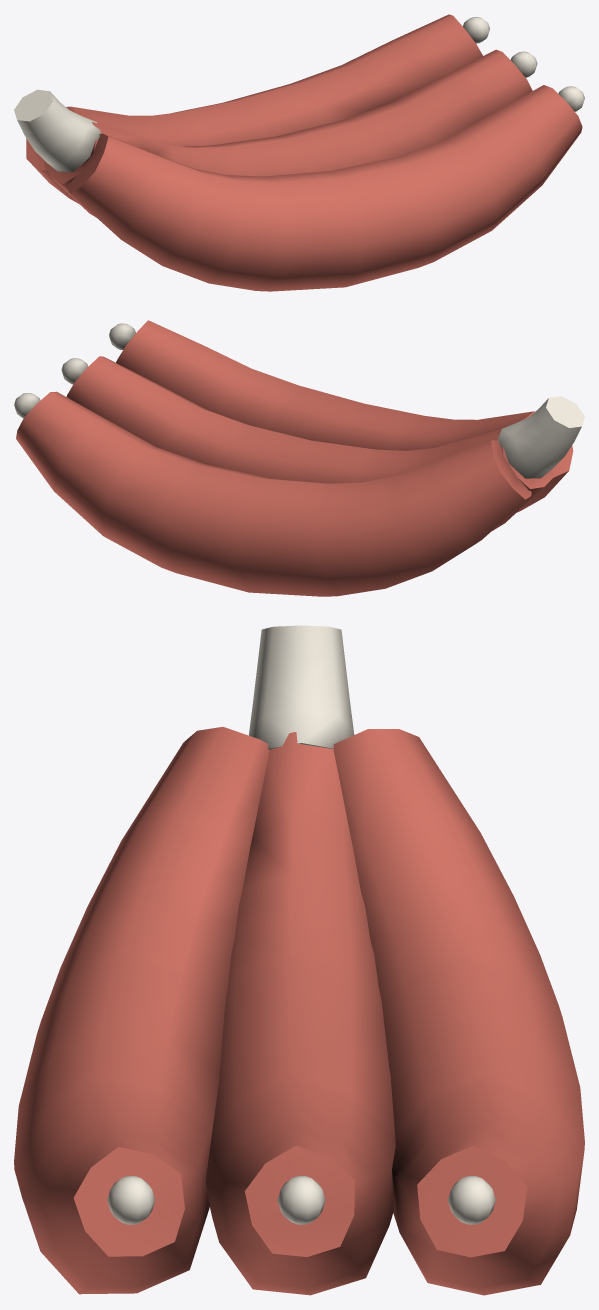
The model's file is food_banana.glb.
3 views of the same model, one above another, from view 1: azimuth 30°, elevation 25°; view 2: azimuth 150°, elevation 25°; view 3: azimuth 270°, elevation 25° (orthographic). The views are drawn at different scales.
Visible parts, largest first — view 1: PART; view 2: PART; view 3: PART.
Part boxes in pixels (bbox=[...]): PART: bbox=[14, 14, 584, 291]; PART: bbox=[14, 320, 584, 596]; PART: bbox=[14, 625, 584, 1295].
Size of the model in its own units: 0.179 by 0.0692 by 0.0951.
